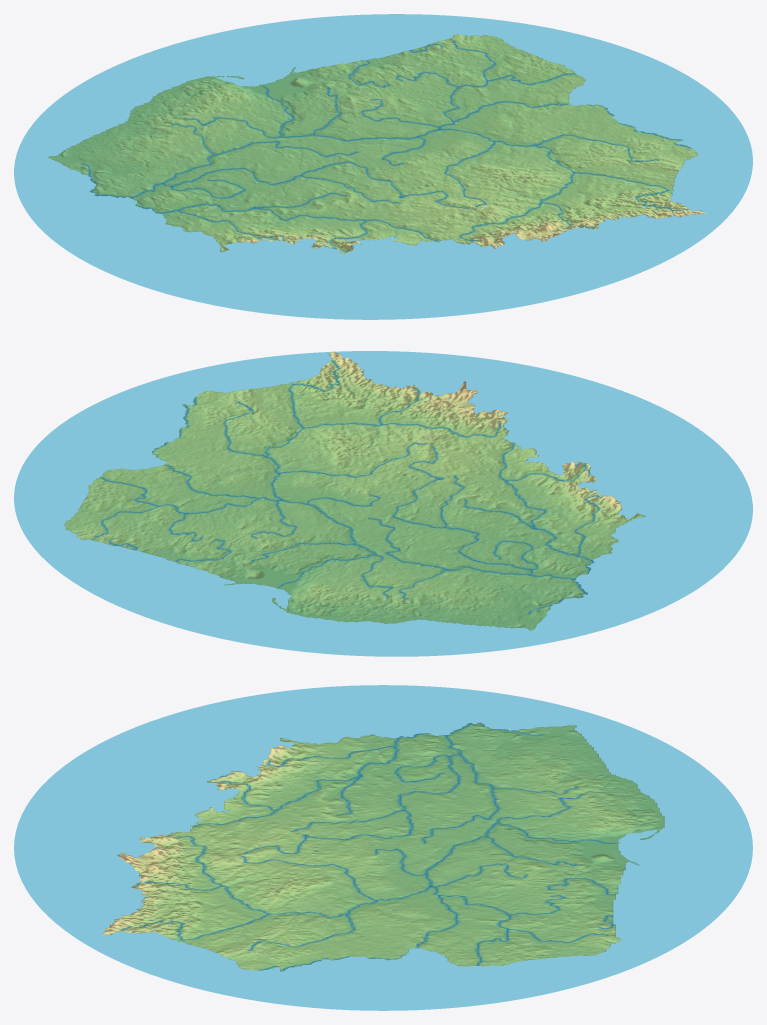
The model's file is POL-terrain.glb.
3 views of the same model, one above another, from view 1: azimuth 30°, elevation 25°; view 2: azimuth 150°, elevation 25°; view 3: azimuth 270°, elevation 25° (orthographic). The views are drawn at different scales.
Visible parts, largest first — view 1: Relevo com hidrografia; view 2: Relevo com hidrografia; view 3: Relevo com hidrografia.
Boxes of the visible parts, left/top/right/bottom form: Relevo com hidrografia: left=14, top=14, right=752, bottom=319; Relevo com hidrografia: left=14, top=351, right=752, bottom=656; Relevo com hidrografia: left=14, top=685, right=752, bottom=1010.
Bounding box in the file's own units: 2.09 × 0.0543 × 2.
2 materials, 1 textured.
